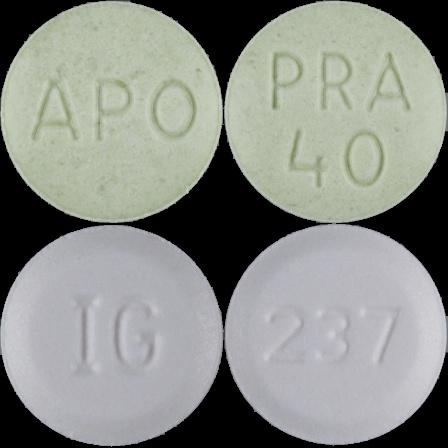50436-6617: (0, 0, 224, 224)
